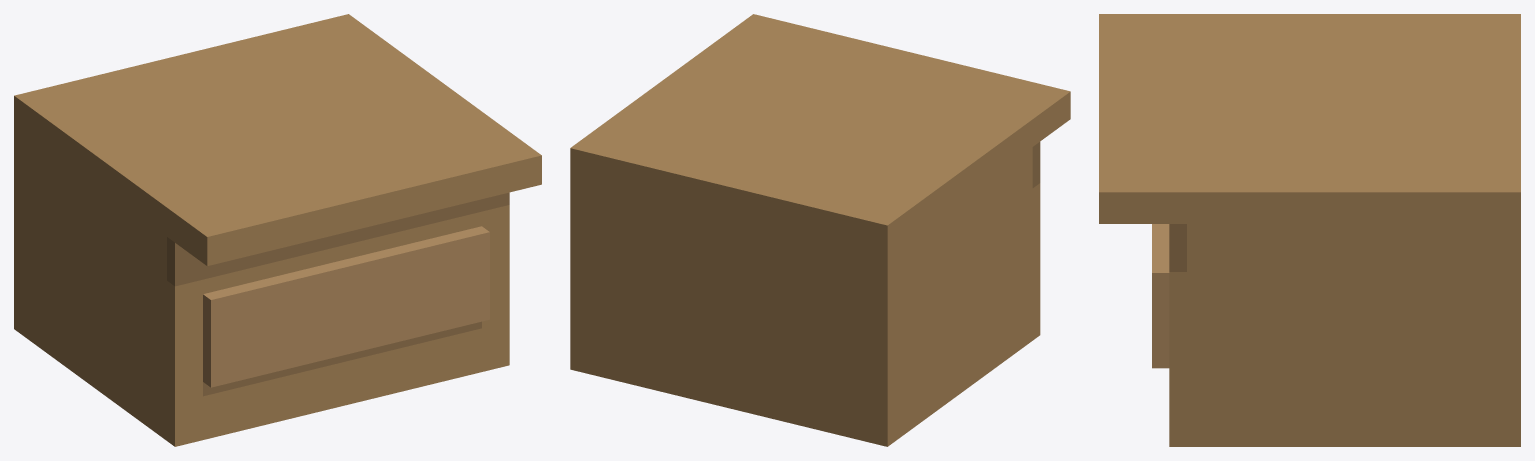
File: CookingTable.fbx
The picture shows the model from 3 angles, left to right: view 1: azimuth 30°, elevation 25°; view 2: azimuth 150°, elevation 25°; view 3: azimuth 270°, elevation 25°; orthographic projection. The views are drawn at different scales.
Parts seen in each view (by area): view 1: cookingtable; view 2: cookingtable; view 3: cookingtable.
Boxes of the visible parts, bbox=[...] form: cookingtable: bbox=[14, 14, 541, 446]; cookingtable: bbox=[570, 14, 1070, 446]; cookingtable: bbox=[1099, 14, 1520, 446].
Bounding box in the file's own units: 240 × 160 × 240.
Materials: 1 (1 with a texture image).
